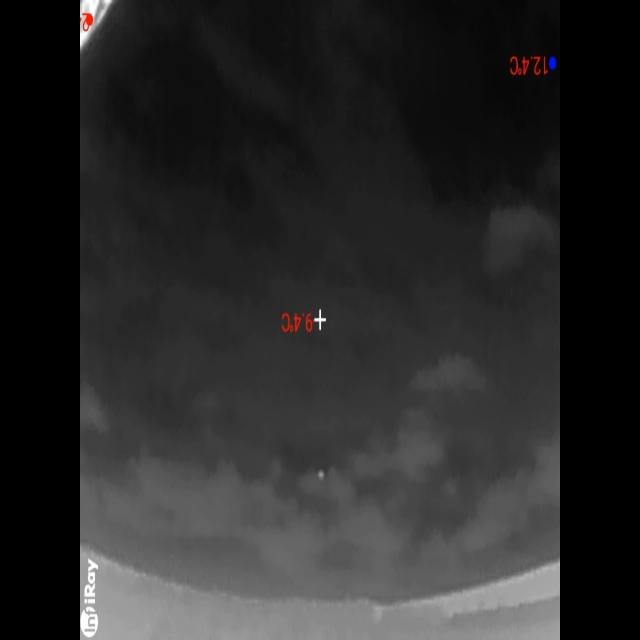drone: (316, 468, 327, 482)
